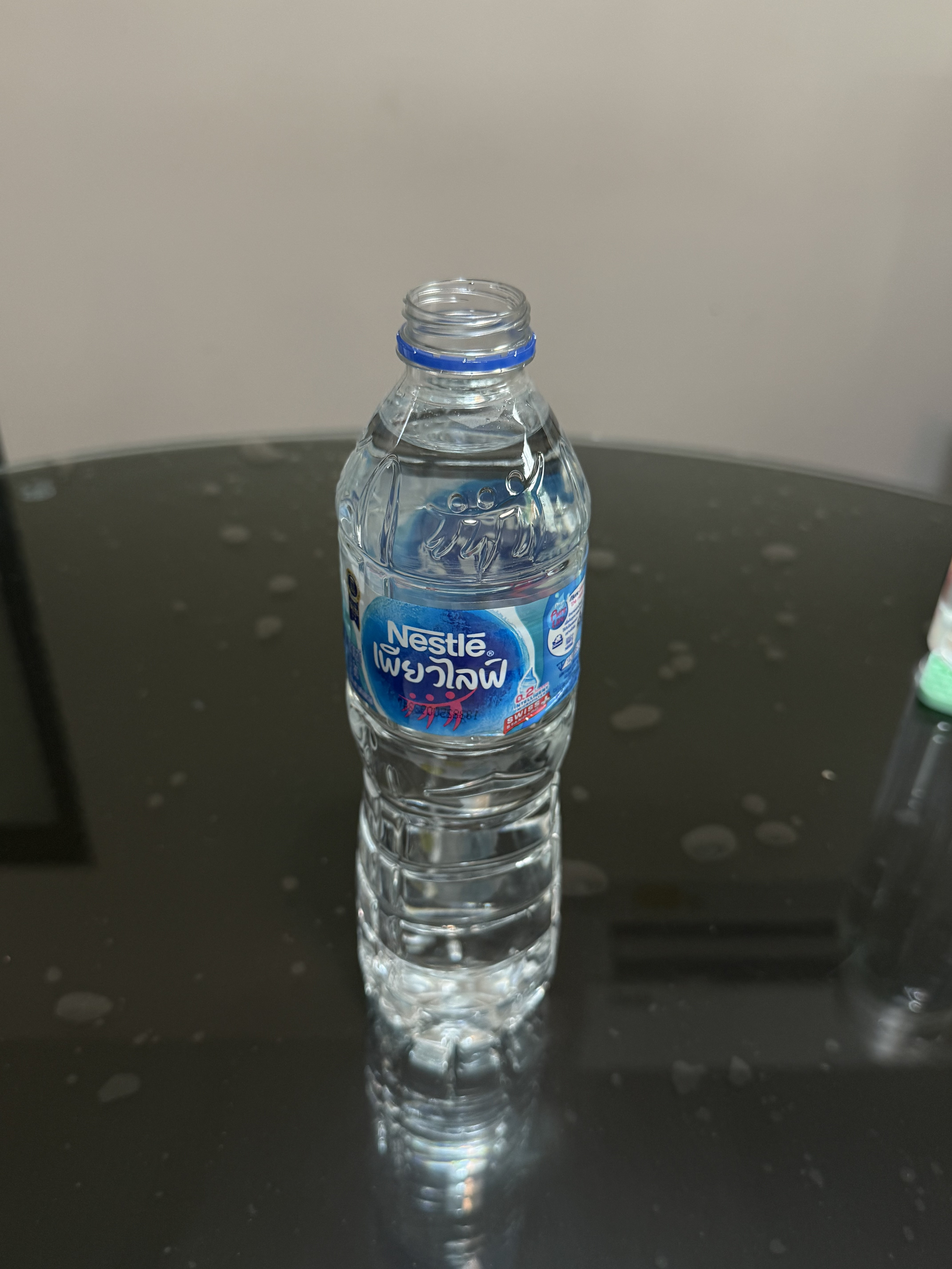no_cap: (393, 275, 541, 375)
